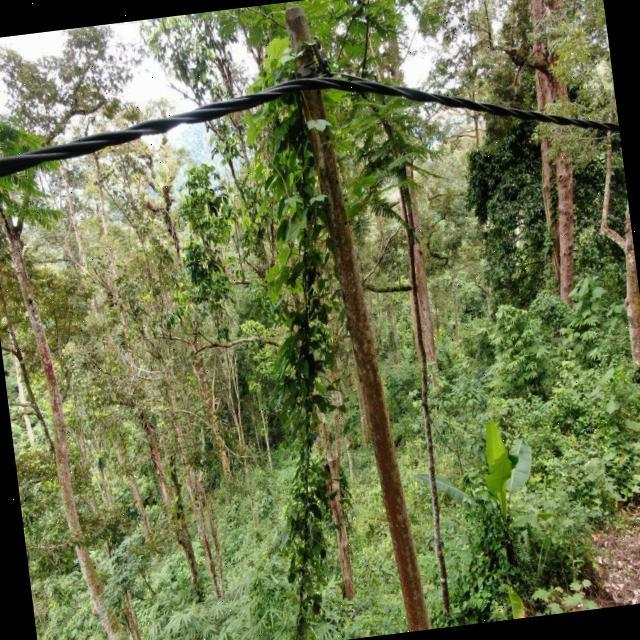critical vegetation: (215, 26, 402, 639)
